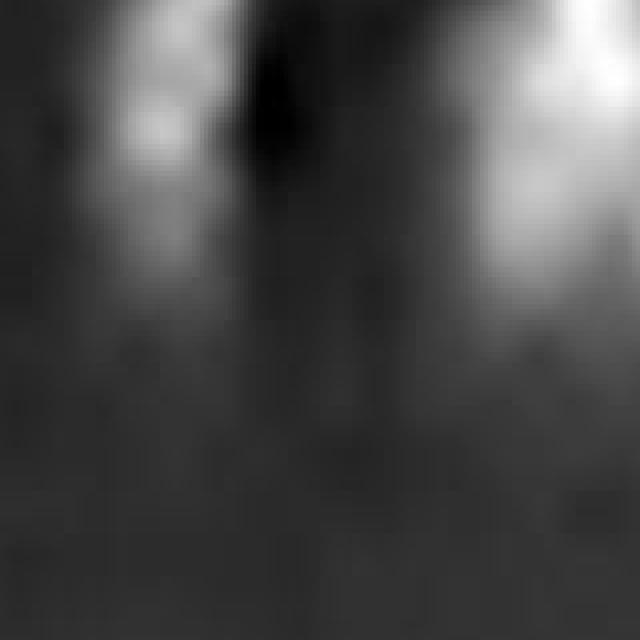person: (445, 1, 640, 417), (77, 1, 257, 337)
